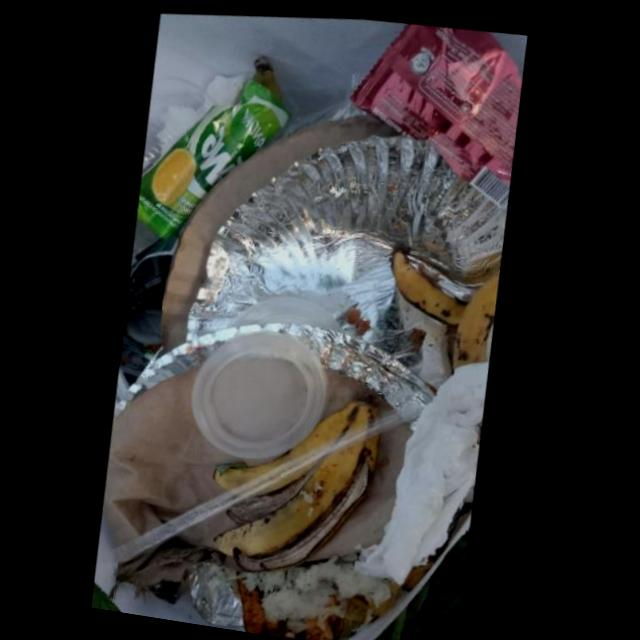bao_bi_thuc_pham: (352, 20, 524, 209)
goi_nhua_nho: (140, 75, 294, 234)
thuc_an_thua: (245, 554, 400, 621)
vo_trai_cay: (218, 399, 382, 569), (396, 247, 503, 368), (245, 578, 350, 640)
